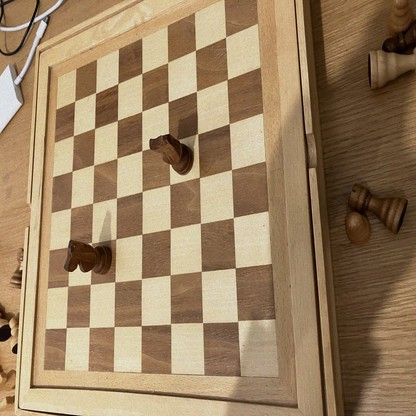knight_black: (149, 137, 193, 175), (65, 242, 111, 276)
pawn_white: (347, 212, 370, 245), (10, 317, 20, 353)
rock_black: (350, 185, 407, 232), (9, 249, 25, 289)
